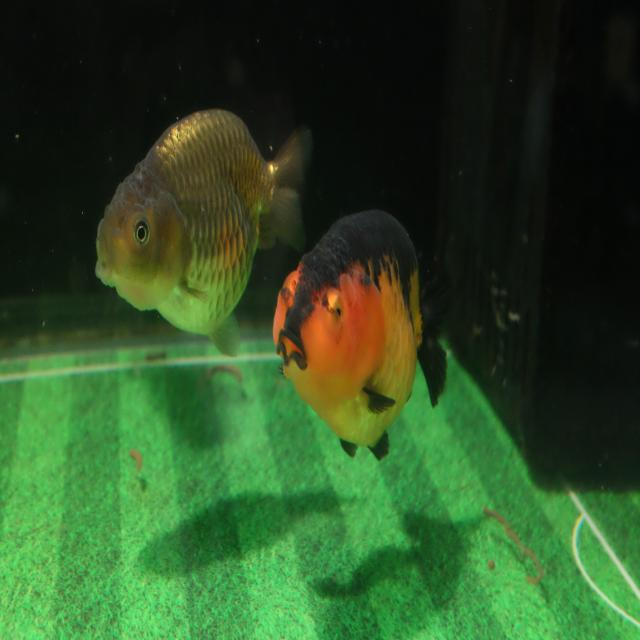Goldfish: (94, 105, 315, 360), (270, 206, 448, 464)
